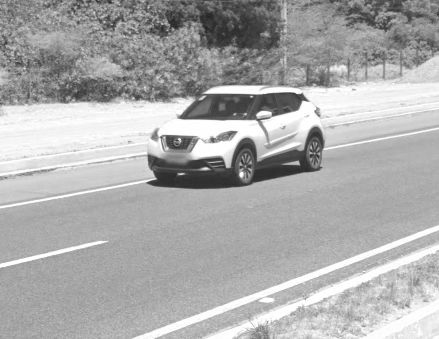car: (144, 83, 326, 185)
